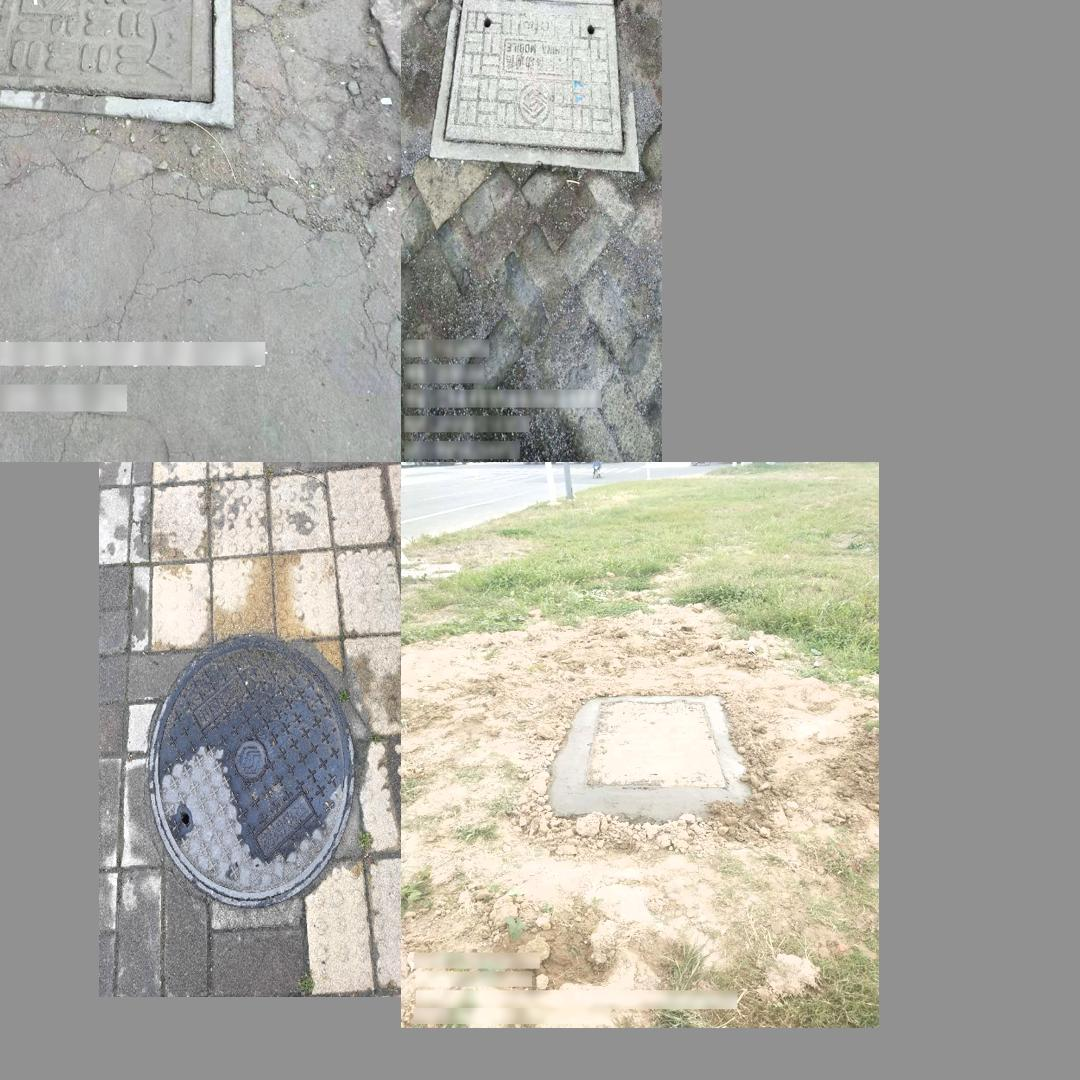good: (149, 635, 356, 908), (429, 0, 638, 174), (0, 0, 229, 97), (581, 688, 732, 800)
